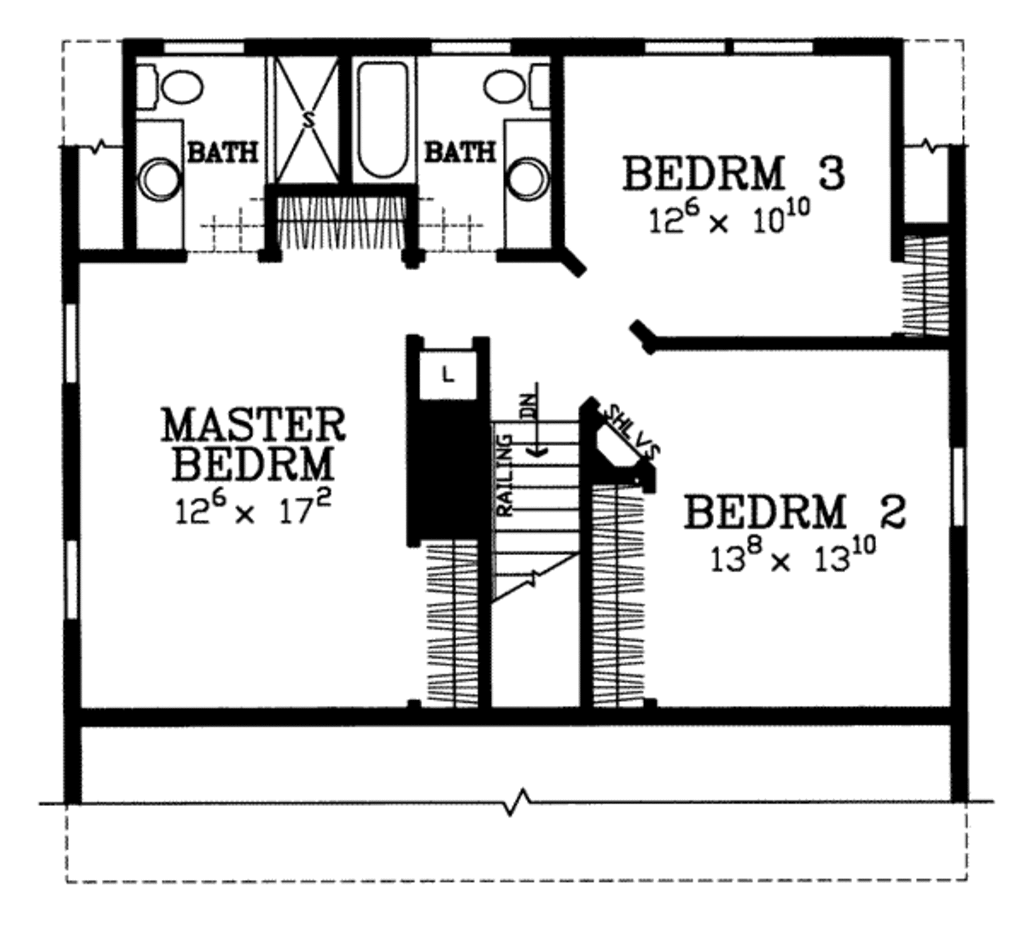large_sink: (471, 58, 556, 113), (132, 60, 203, 119)
small_sink: (498, 112, 556, 256), (131, 114, 188, 253)
stairs: (486, 383, 587, 715)
tub: (349, 49, 428, 188)
windows: (632, 31, 816, 63), (58, 298, 88, 402), (947, 435, 976, 540), (55, 534, 88, 626)
